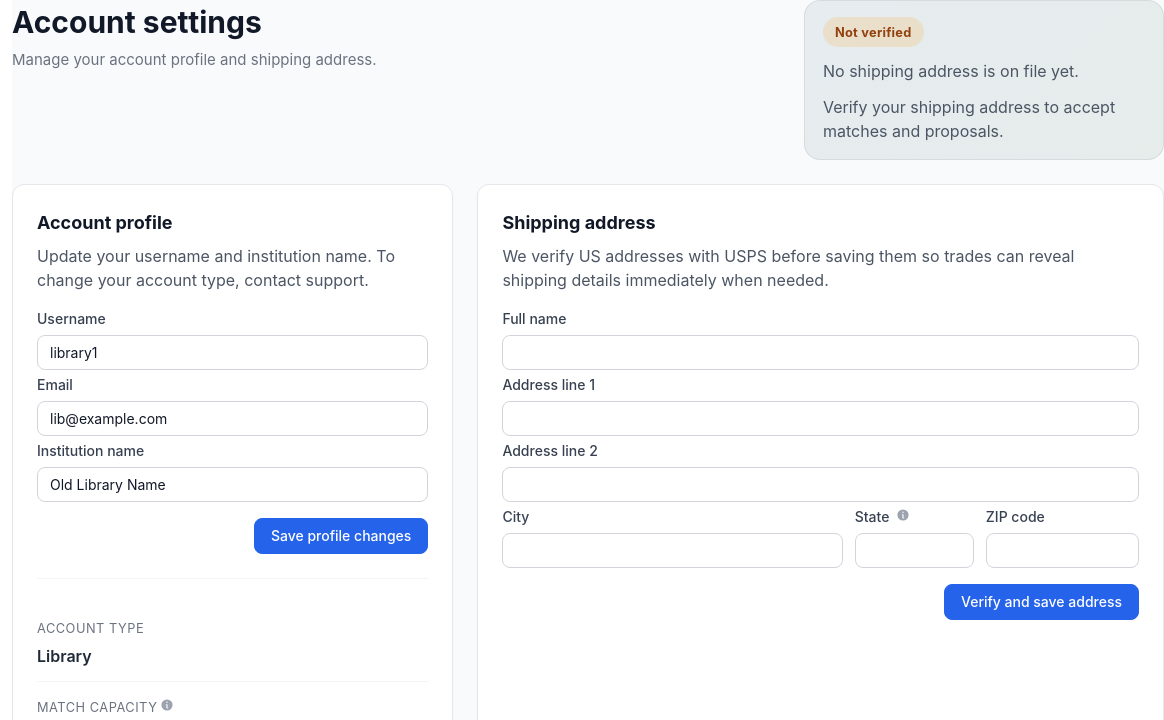
Test: AccountSettings page › can update username and institution name
Replace the text in the field labelled "Institution name" with "New Library Name" at (233, 485), box x1=37 y1=467 x2=428 y2=502
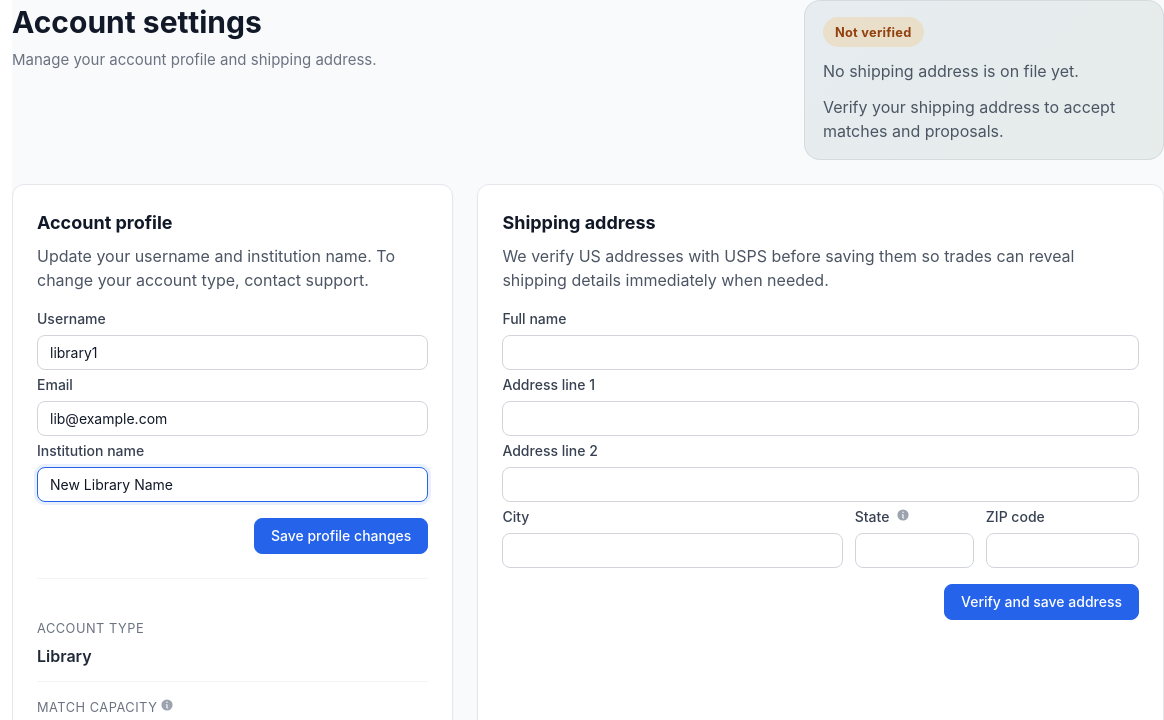
Click the button "Save profile changes" at (341, 536), box x1=254 y1=518 x2=428 y2=554
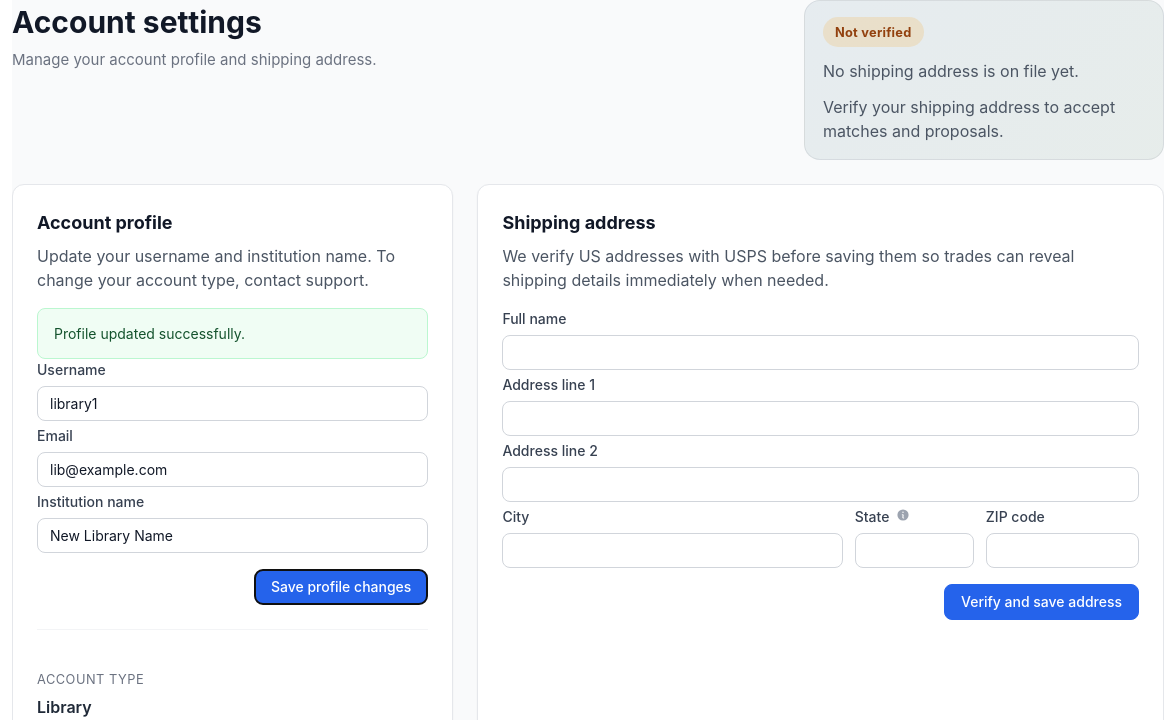
Now the text "Profile updated successfully." is shown, box x1=37 y1=308 x2=428 y2=359
